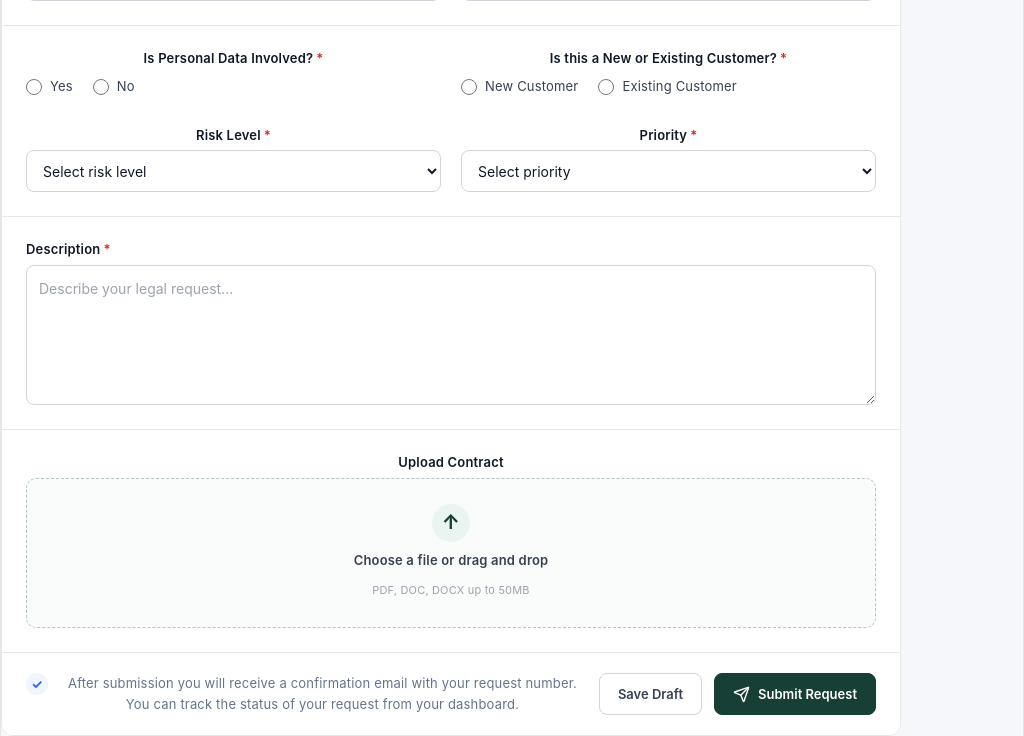
ContractReviewForm › shows validation errors when submitted empty
This screenshot has width=1024, height=736.
(page scrolled)
Step 1. Click the button "Submit Request" → coordinates (795, 694), box [714,673,876,715]
(page scrolled)
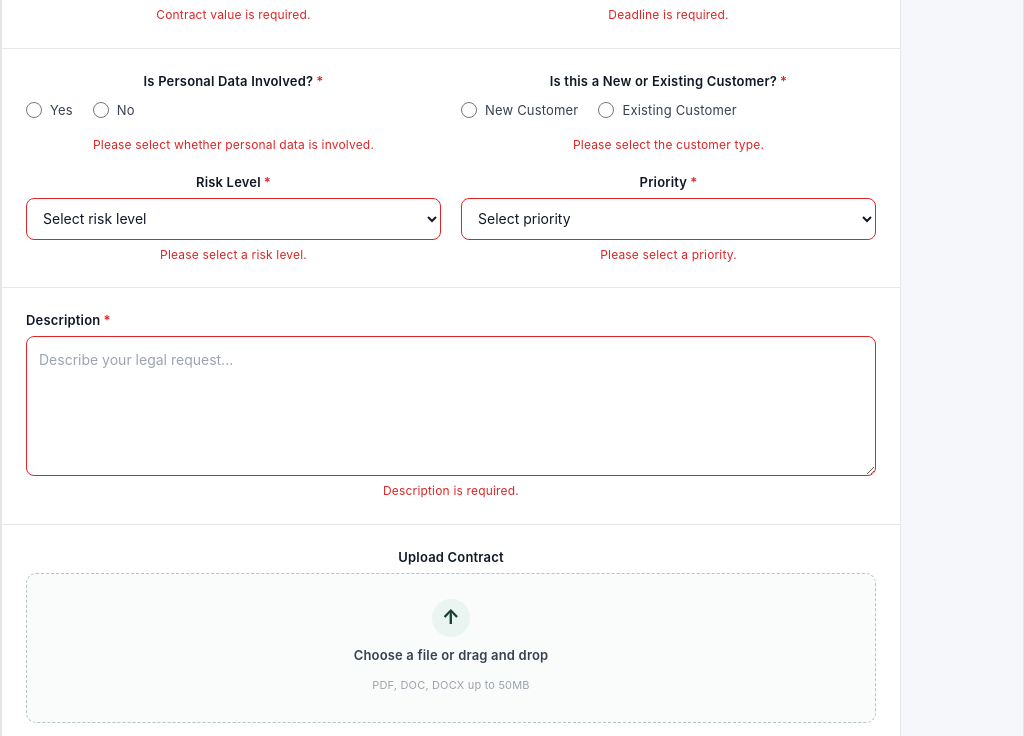
Now the text "Contract value is required." is shown, box [156,7,311,22]
Now the text "Deadline is required." is shown, box [608,7,729,22]
Now the text "Please select whether personal data is involved." is shown, box [93,137,374,152]
